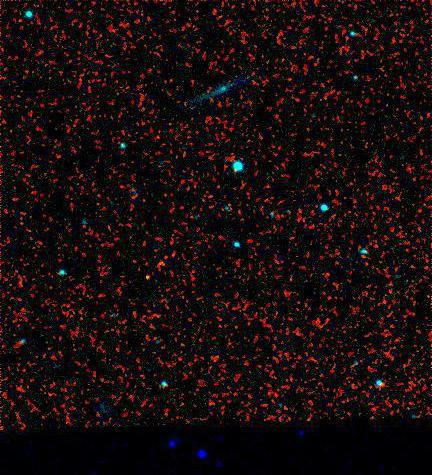star: (157, 64, 187, 94)
